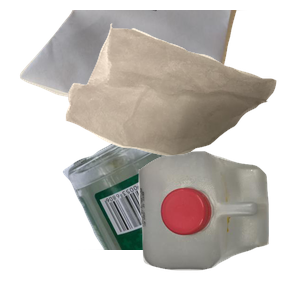glass: (60, 120, 300, 300)
paper: (17, 10, 254, 141)
plastic: (136, 149, 300, 300)
trash: (63, 21, 300, 172)
